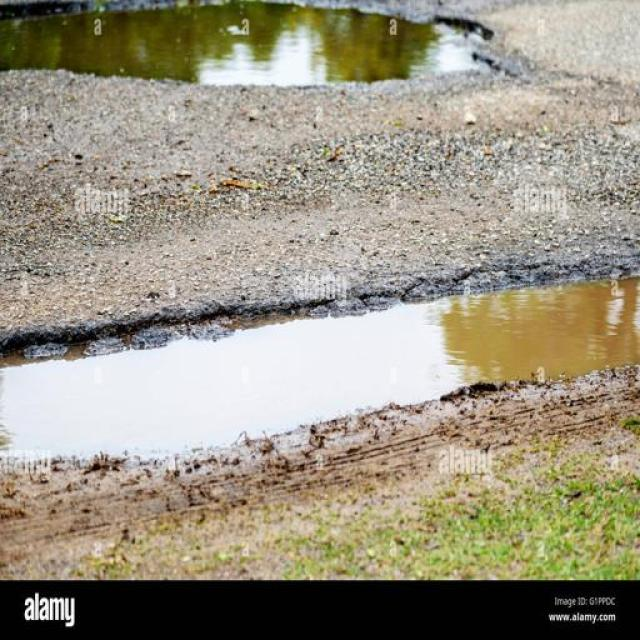puddle: (36, 302, 632, 417), (12, 9, 463, 88)
